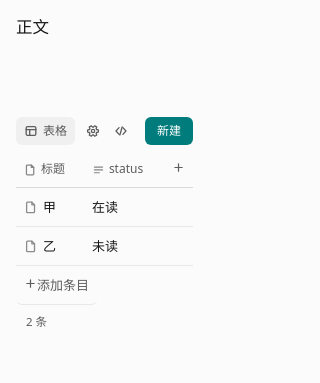
it: 视图本身能操作（§2.6） › 点列头开的是菜单，不是直接排序
This screenshot has width=320, height=383.
Click the button with class "dbview-th" showing "status": (124, 169) [84, 152, 164, 186]
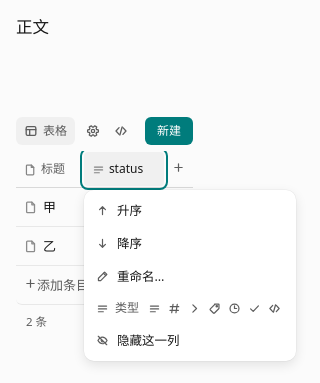
Expected: the list with class "dbview-menu" is shown, [84, 190, 296, 361]
